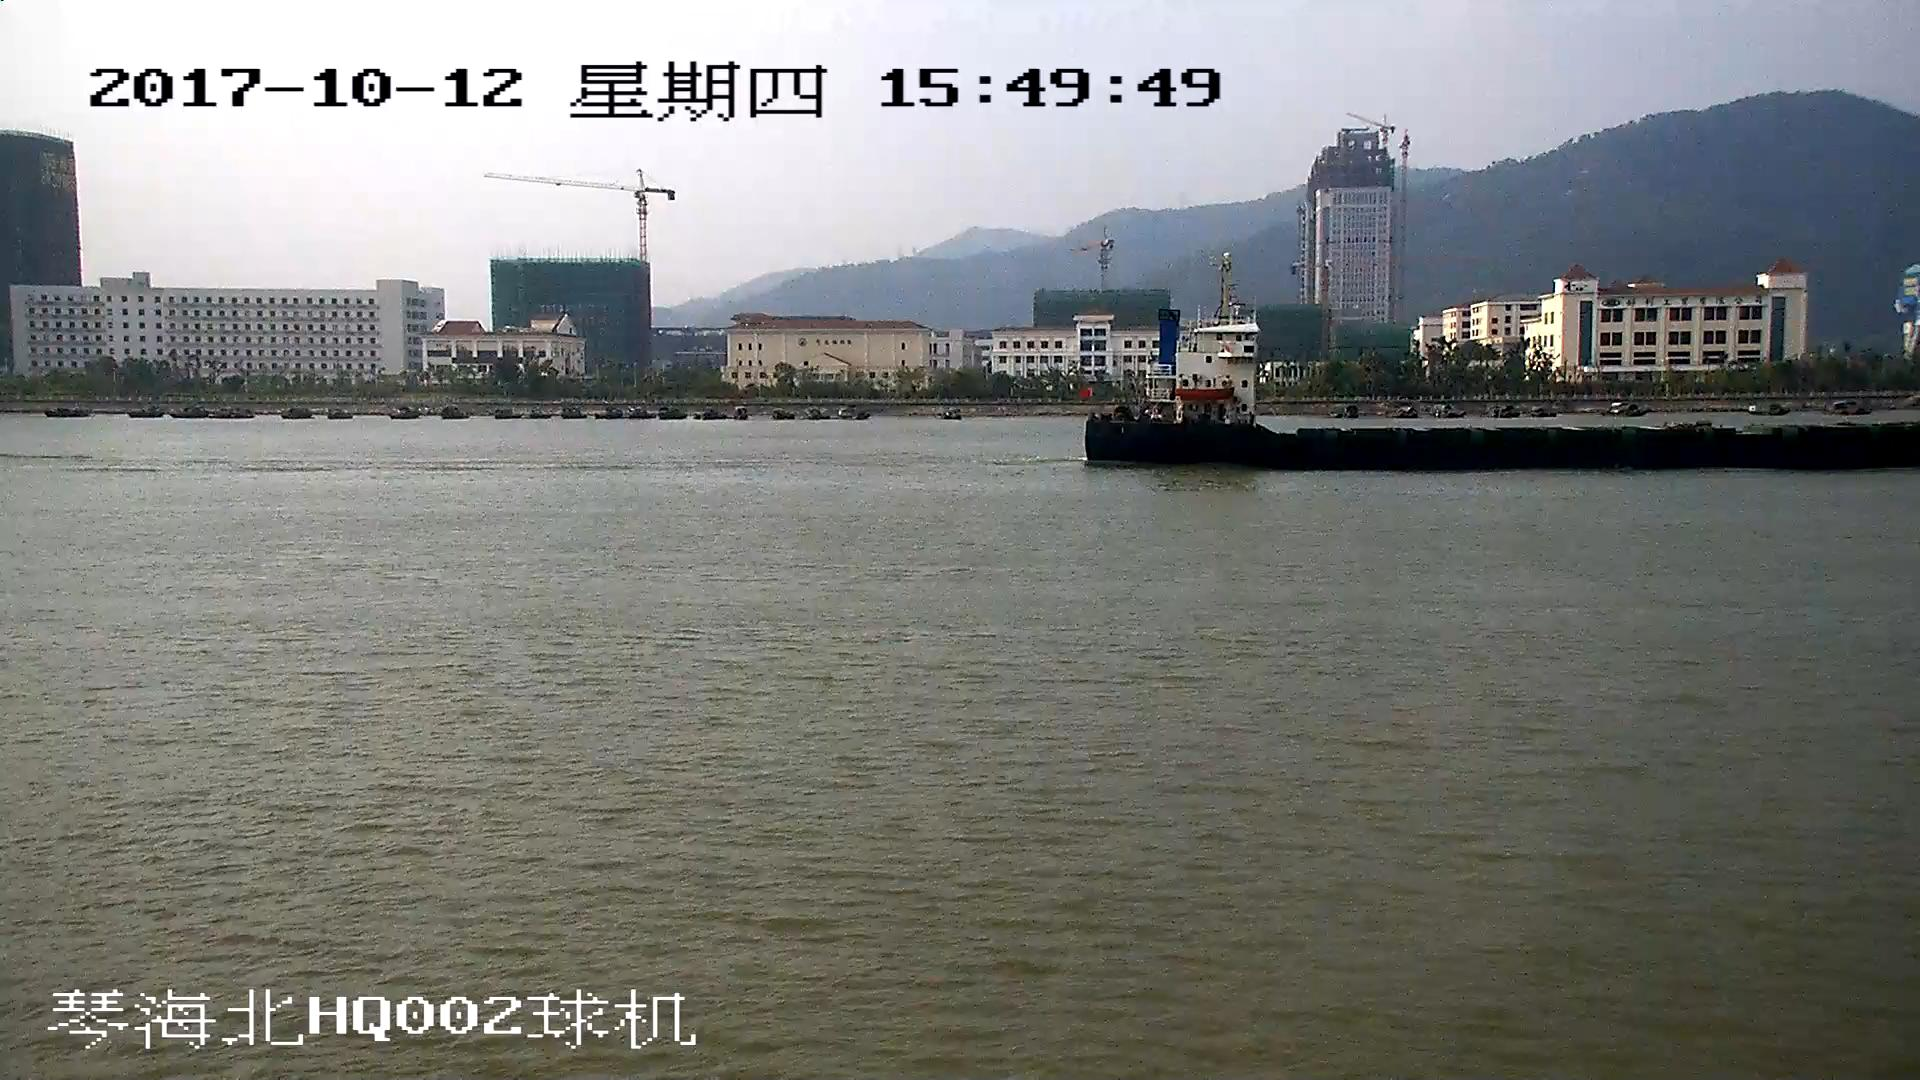general cargo ship: (1077, 284, 1920, 474)
